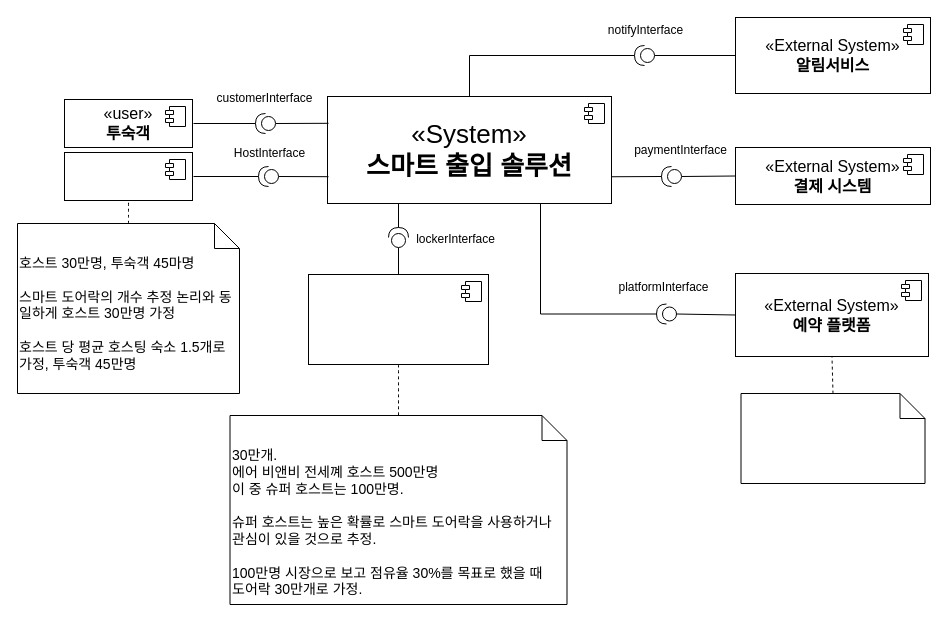
This 948x622 diagram has some shape labels left out. The shapes that lost their labels are listed below. From the top down, each one's centre as x and y in pixels, then its label:
the point at 128,176: «user» 호스트
the point at 398,319: «External Device» 스마트 도어락
the point at 832,438: n개 에어비앤비, Bookingcom ...
